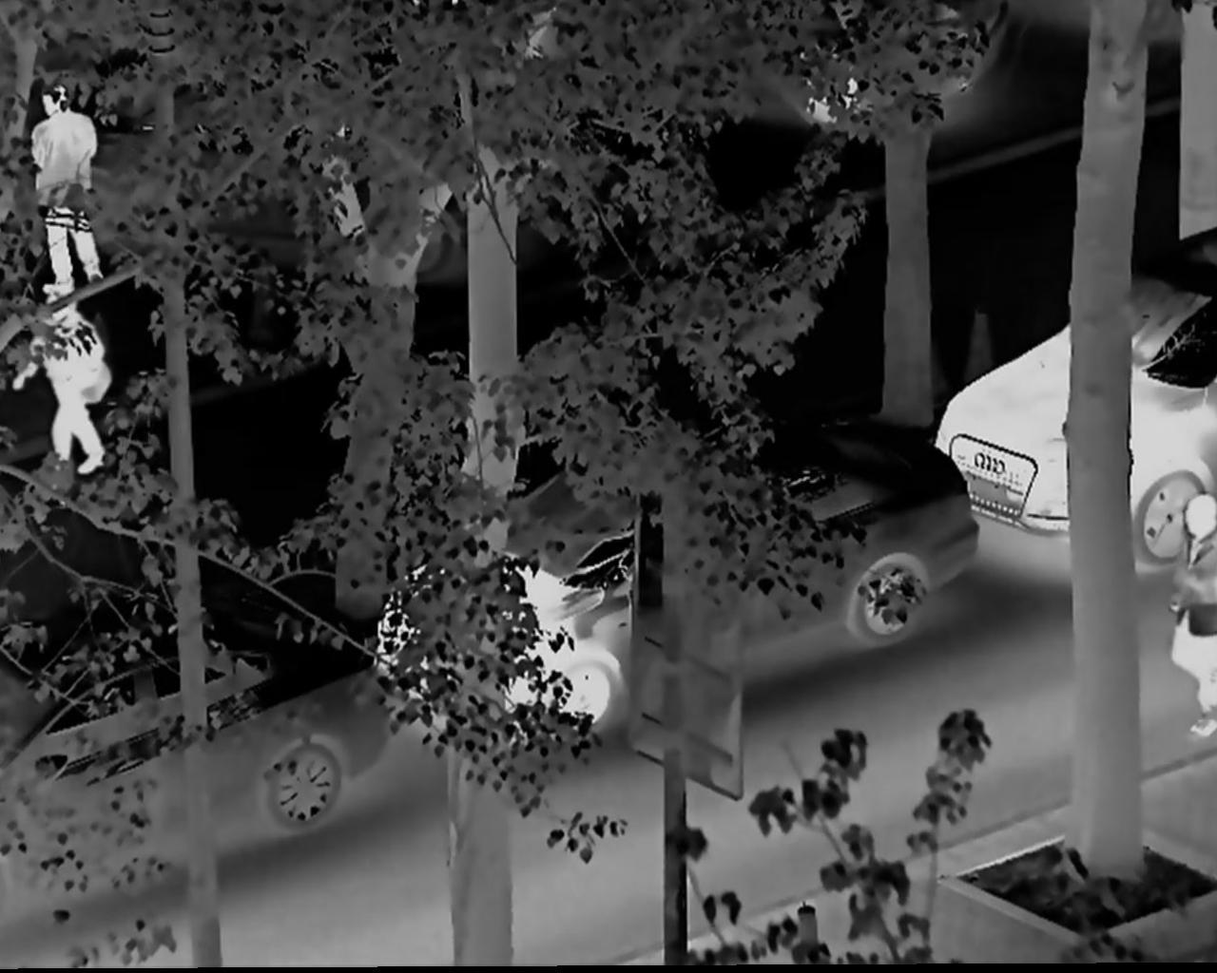person: (27, 81, 110, 297), (11, 308, 108, 473), (1165, 492, 1217, 748)
